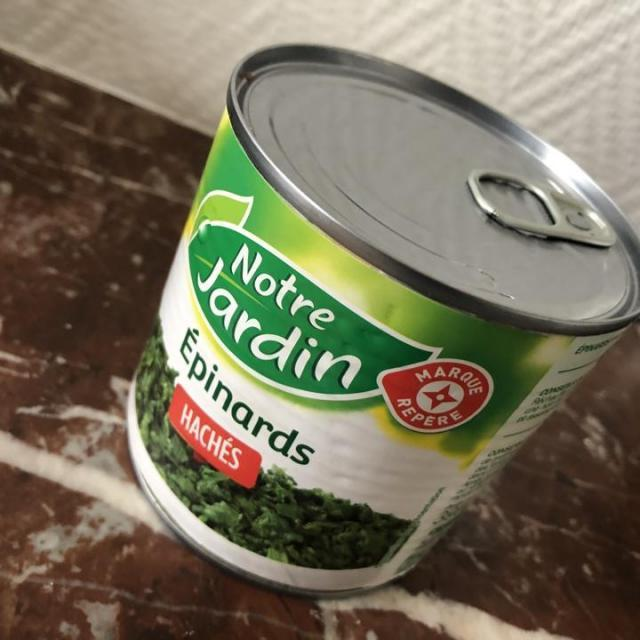metal-can: (118, 40, 640, 603)
